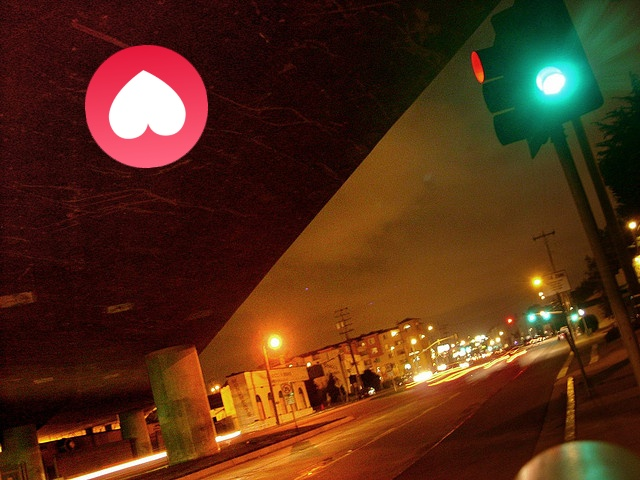love: (85, 45, 208, 168)
